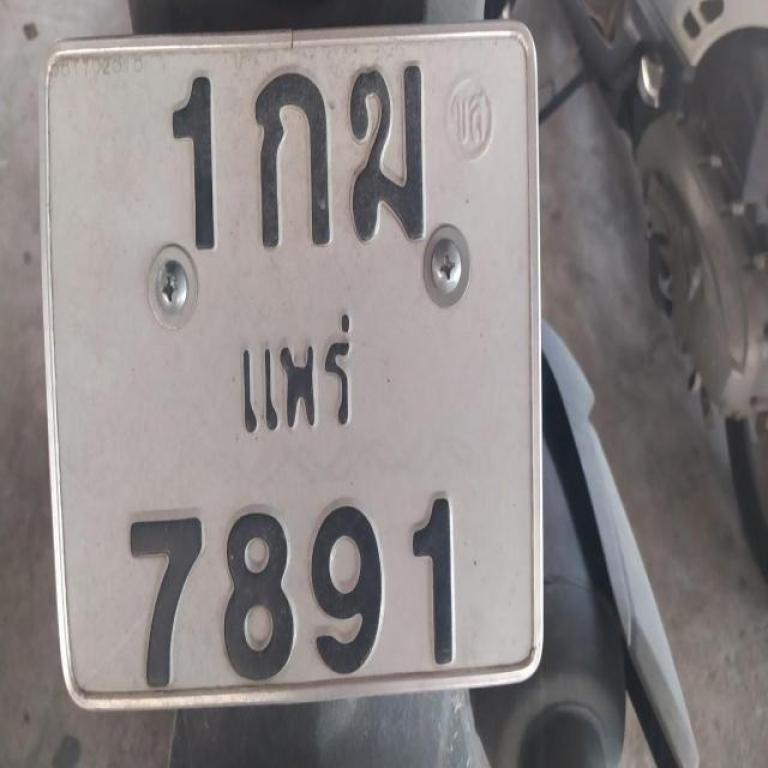license plate: (31, 18, 558, 709)
